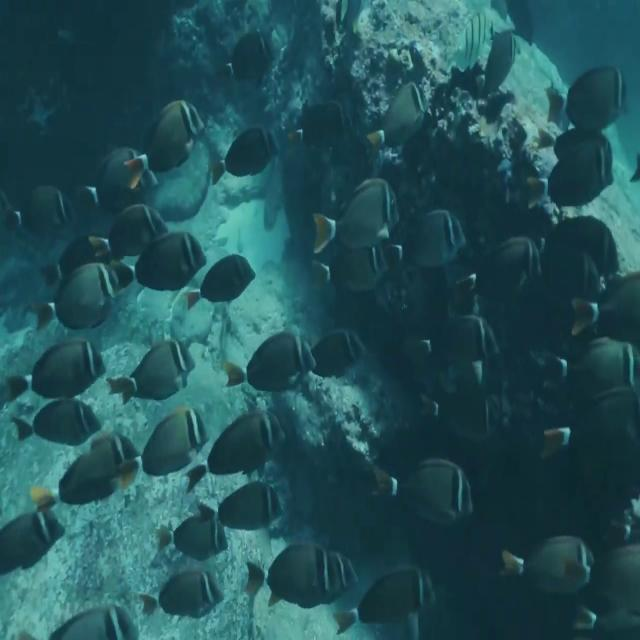fish: (368, 439, 485, 541), (534, 384, 640, 477), (184, 396, 284, 489), (0, 328, 111, 411), (308, 164, 403, 258), (339, 554, 439, 640), (239, 529, 338, 613), (500, 532, 606, 610), (43, 249, 124, 350), (4, 384, 106, 461), (219, 330, 322, 406), (131, 390, 209, 489), (123, 226, 210, 314), (0, 484, 72, 590), (147, 554, 237, 636), (72, 134, 151, 226), (534, 58, 634, 128), (358, 69, 438, 153), (400, 193, 477, 273), (545, 331, 640, 395), (190, 237, 260, 323), (192, 470, 284, 533), (145, 90, 212, 176), (209, 15, 281, 95), (548, 139, 621, 216), (316, 246, 403, 310), (432, 297, 508, 370), (38, 590, 146, 640), (96, 184, 167, 260), (483, 217, 548, 299), (1, 178, 75, 249), (212, 119, 280, 196), (297, 319, 363, 396), (144, 508, 234, 564)
